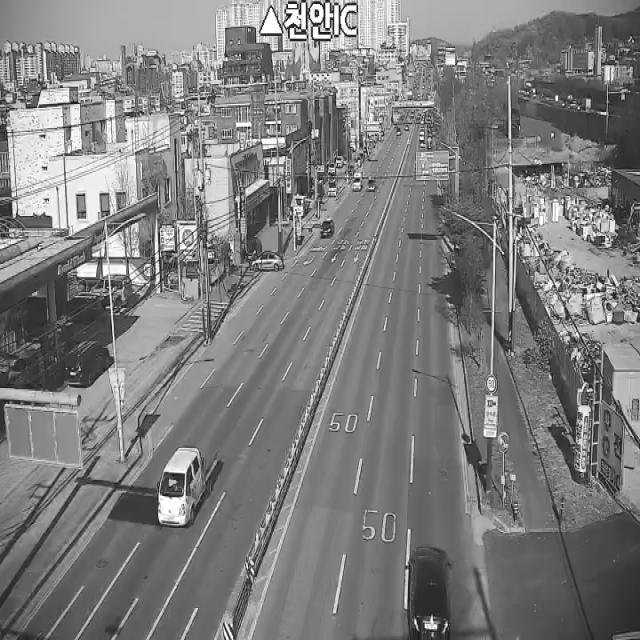Car: (406, 544, 452, 640), (64, 341, 110, 388), (90, 273, 132, 305), (252, 251, 284, 272), (247, 236, 262, 262), (320, 218, 334, 238), (327, 181, 337, 198), (367, 180, 376, 192), (336, 156, 344, 168), (328, 163, 336, 175)
Truck: (158, 446, 218, 526), (353, 172, 362, 192)
